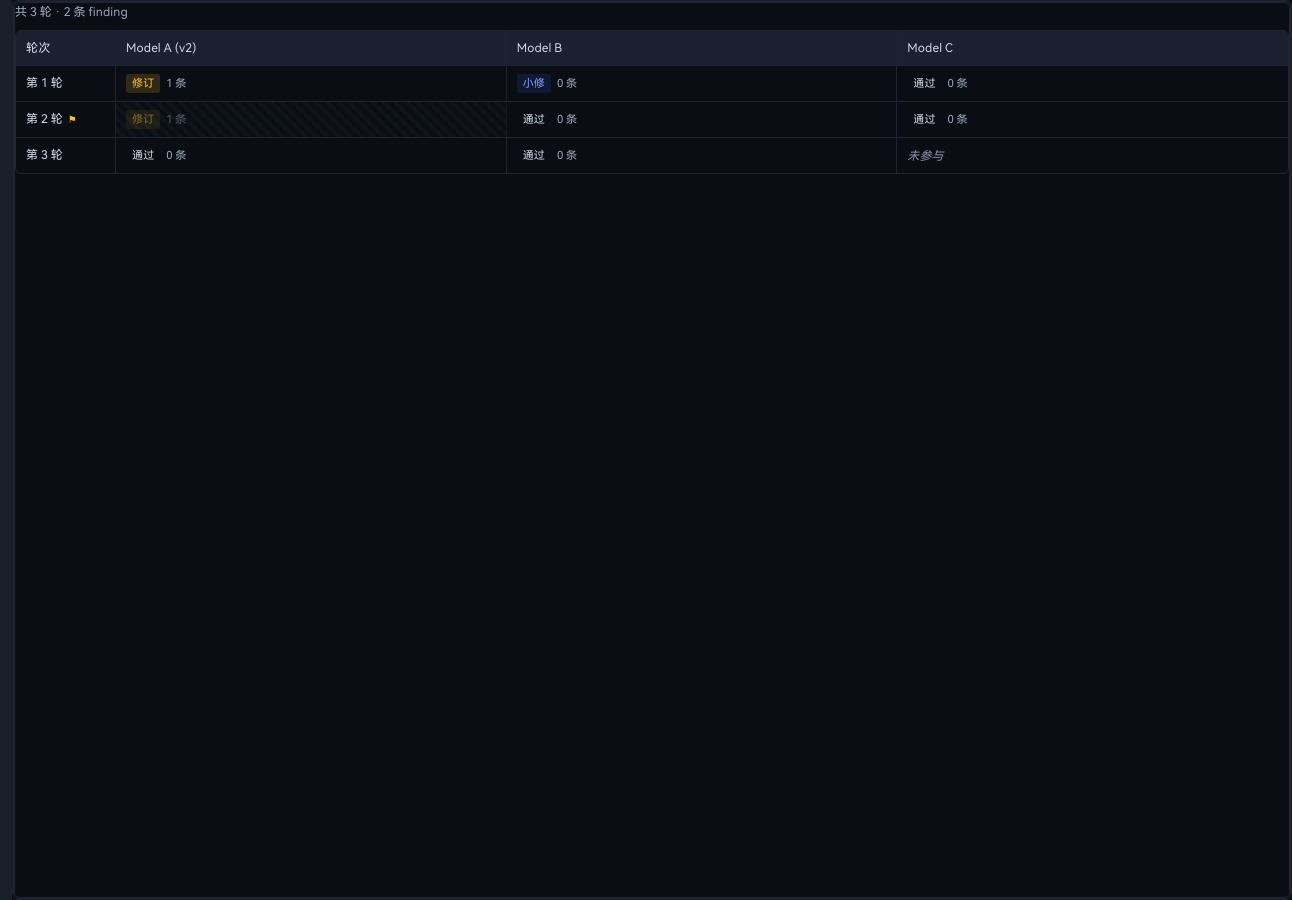
Test: ReviewMatrixGrid › expands findings inline when a cell with findings is clicked
This screenshot has width=1292, height=900.
Click Round 1 / Model A (has findings).
Click the cell with class "review-matrix-grid__cell--body" next to "第 1 轮" at (311, 84), box x1=116 y1=66 x2=507 y2=101
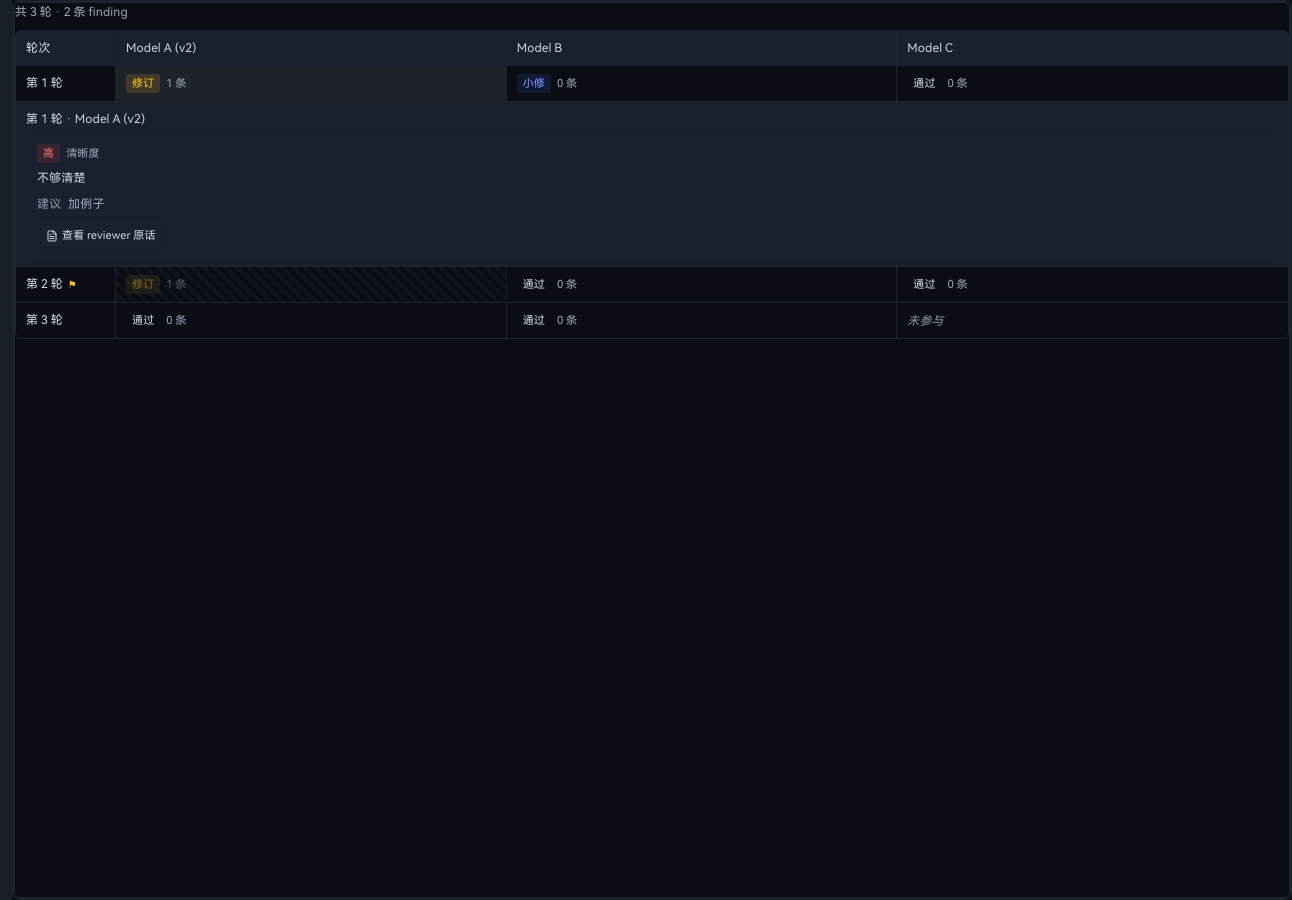
Result: the row with class "review-matrix-grid__expanded" is shown at x1=16 y1=102 x2=1288 y2=267
Result: the row with class "review-matrix-grid__expanded" shows "不够清楚" at x1=37 y1=171 x2=86 y2=185
